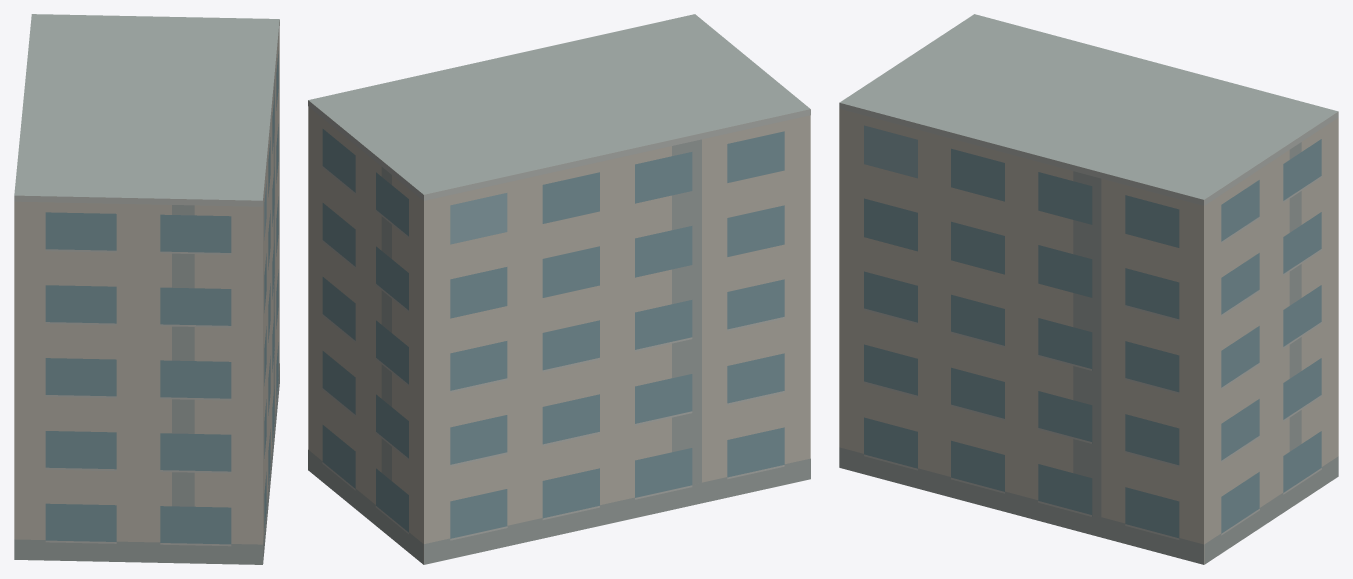
Rendered from survey-upis-32946377.glb.
3 views of the same model, side by side, from view 1: azimuth 30°, elevation 25°; view 2: azimuth 150°, elevation 25°; view 3: azimuth 270°, elevation 25° (orthographic).
Parts seen in each view (by area): view 1: survey-upis-32946377.tmp; view 2: survey-upis-32946377.tmp; view 3: survey-upis-32946377.tmp.
Part boxes in pixels (x1,y1,x2,y2): survey-upis-32946377.tmp: [14, 14, 279, 564]; survey-upis-32946377.tmp: [308, 14, 810, 564]; survey-upis-32946377.tmp: [839, 14, 1338, 564].
Size of the model in its own units: 15.95 by 14.6 by 18.11.
